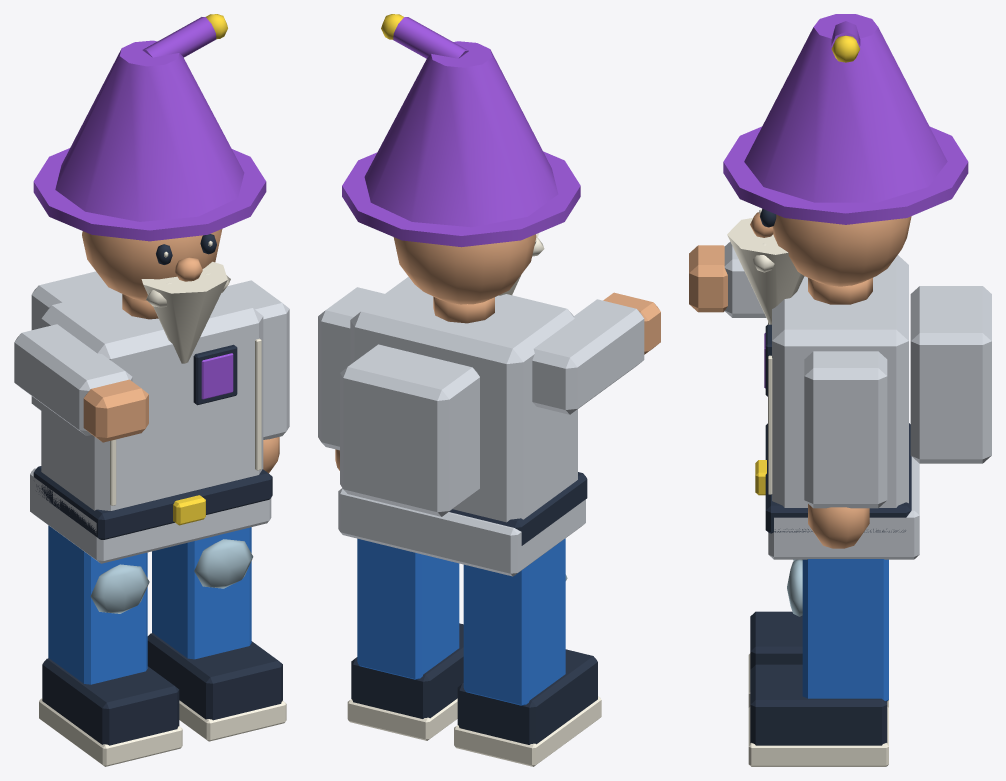
Rendered from fps_char_4.glb.
3 views of the same model, side by side, from view 1: azimuth 30°, elevation 25°; view 2: azimuth 150°, elevation 25°; view 3: azimuth 270°, elevation 25° (orthographic). The views are drawn at different scales.
Visible parts, largest first — view 1: detail_Paint, detail_Grape, leg_r, leg_l, detail_Ink navy, detail_Vanilla plastic, arm_l, head_core, right_hand, detail_Lemon, detail_Warm vinyl; view 2: detail_Paint, detail_Grape, leg_r, leg_l, head_core, arm_l, detail_Ink navy, right_hand, detail_Warm vinyl; view 3: detail_Paint, detail_Grape, leg_l, arm_l, head_core, detail_Vanilla plastic, leg_r, right_hand, detail_Ink navy, detail_Warm vinyl, detail_Lemon.
Boxes of the visible parts, x1,y1,x2,y2 form: detail_Paint: (14,271,271,563); detail_Grape: (33,17,266,399); leg_r: (39,525,182,766); leg_l: (147,527,286,741); detail_Ink navy: (33,234,272,539); detail_Vanilla plastic: (110,241,261,505); arm_l: (226,280,289,473); head_core: (82,229,222,300); right_hand: (83,379,148,442); detail_Lemon: (173,14,227,525); detail_Warm vinyl: (122,257,202,319); detail_Paint: (338,277,644,576); detail_Grape: (342,17,580,247); leg_r: (454,538,601,766); leg_l: (347,538,463,740); head_core: (393,234,536,304); arm_l: (318,287,384,470); detail_Ink navy: (449,472,587,545); right_hand: (603,292,660,354); detail_Warm vinyl: (433,296,494,323); detail_Paint: (724,241,991,559); detail_Grape: (723,14,968,388); leg_l: (748,559,888,766); arm_l: (804,351,887,548); head_core: (772,214,911,286); detail_Vanilla plastic: (727,209,804,494); leg_r: (748,559,888,707); right_hand: (689,245,727,312); detail_Ink navy: (760,208,911,533); detail_Warm vinyl: (750,212,872,304); detail_Lemon: (755,35,859,495).
Size of the model in its own units: 0.84 by 2.2 by 0.84.
